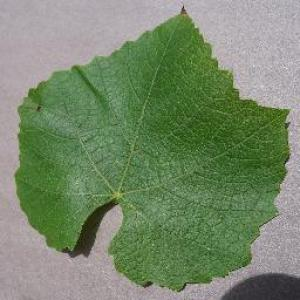Folha: (13, 3, 291, 292)
